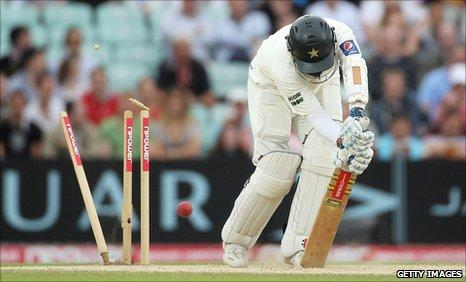batsman: (219, 14, 375, 269)
